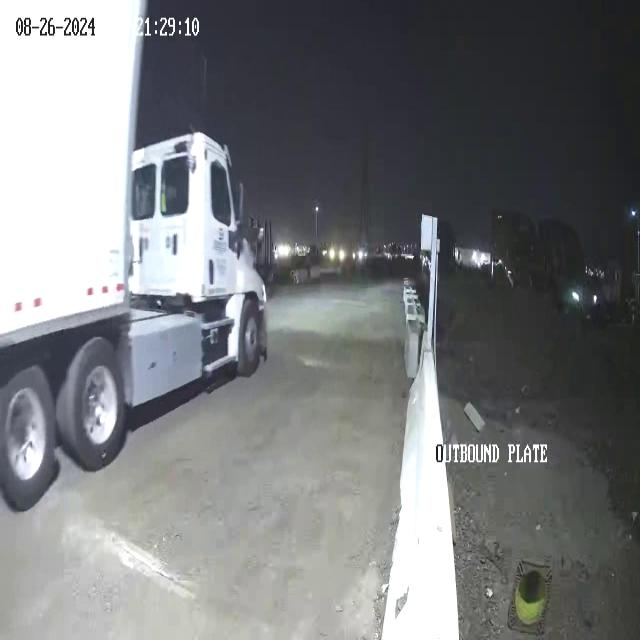CONTAINER: (2, 0, 139, 333)
